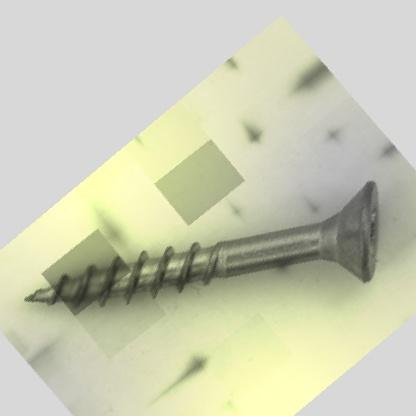metal: (20, 178, 381, 309)
